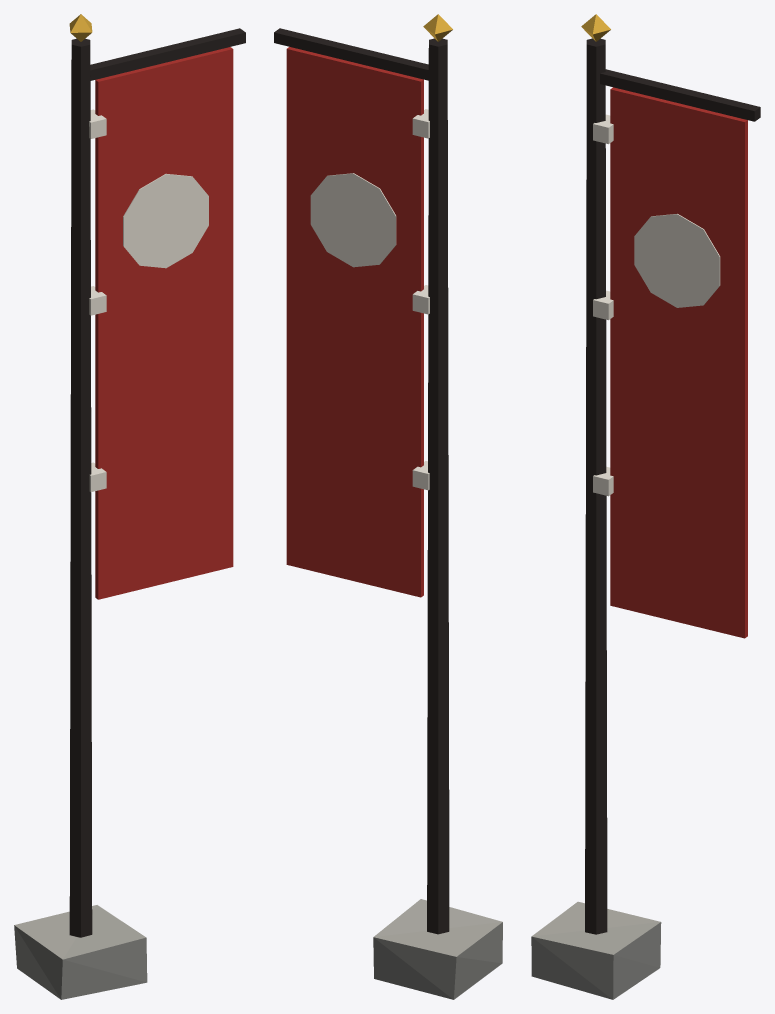
The model's file is banner_nobori.fbx.
3 renders of one model, left to right at view 1: azimuth 30°, elevation 25°; view 2: azimuth 150°, elevation 25°; view 3: azimuth 330°, elevation 25°, orthographic.
Parts seen in each view (by area): view 1: banner_nobori; view 2: banner_nobori; view 3: banner_nobori.
Boxes of the visible parts, x1,y1,x2,y2 form: banner_nobori: (14,14,245,999); banner_nobori: (274,14,502,999); banner_nobori: (531,14,760,999).
Size of the model in its own units: 0.9094 by 4.09 by 0.3787.
